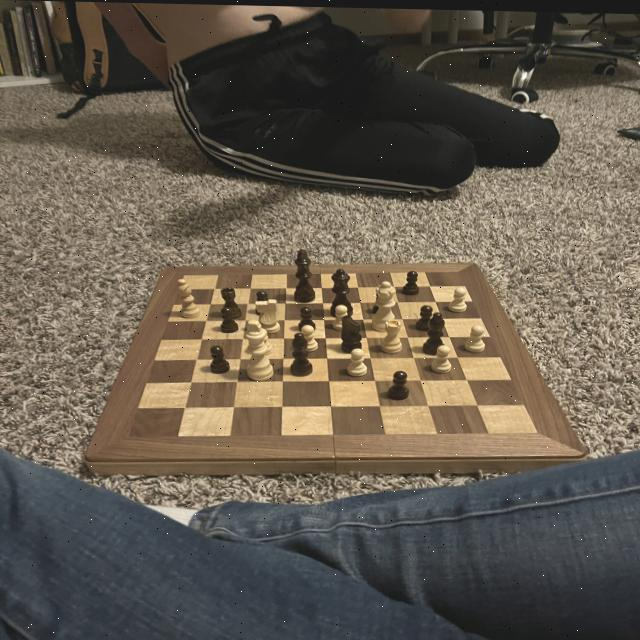bishop: (420, 308, 450, 356), (286, 329, 313, 378)
black-bishop: (288, 246, 318, 303)
black-king: (336, 314, 366, 354)
black-knight: (384, 368, 410, 399), (206, 344, 230, 373), (413, 301, 435, 330), (401, 268, 421, 296), (296, 304, 316, 332), (368, 287, 386, 314), (220, 305, 238, 332), (254, 289, 271, 315)
black-pawn: (328, 266, 356, 318)
black-queen: (218, 285, 243, 319)
black-rook: (176, 277, 203, 321)
white-bishop: (242, 318, 275, 382)
white-king: (251, 297, 281, 333)
white-knight: (461, 320, 490, 354), (427, 342, 455, 373), (344, 346, 370, 377), (297, 324, 319, 352), (446, 283, 468, 311), (331, 301, 351, 331), (258, 325, 274, 356)
white-pawn: (372, 279, 398, 332)
white-queen: (377, 316, 406, 355)
